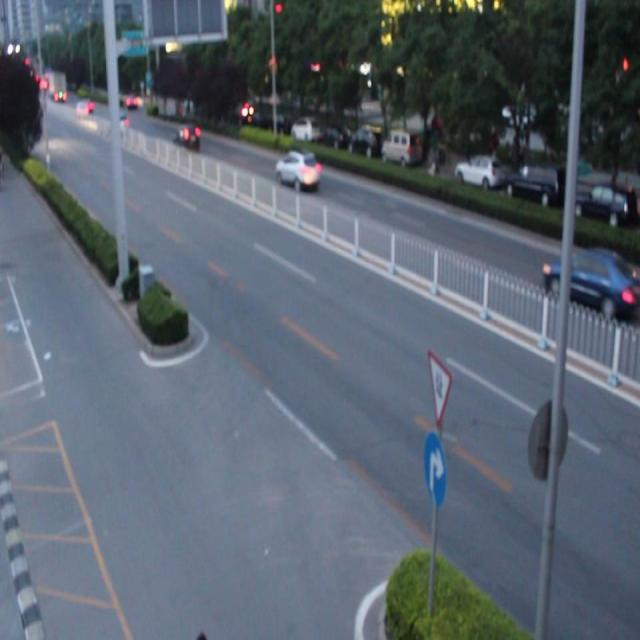car: (542, 245, 640, 325), (274, 148, 320, 191)
